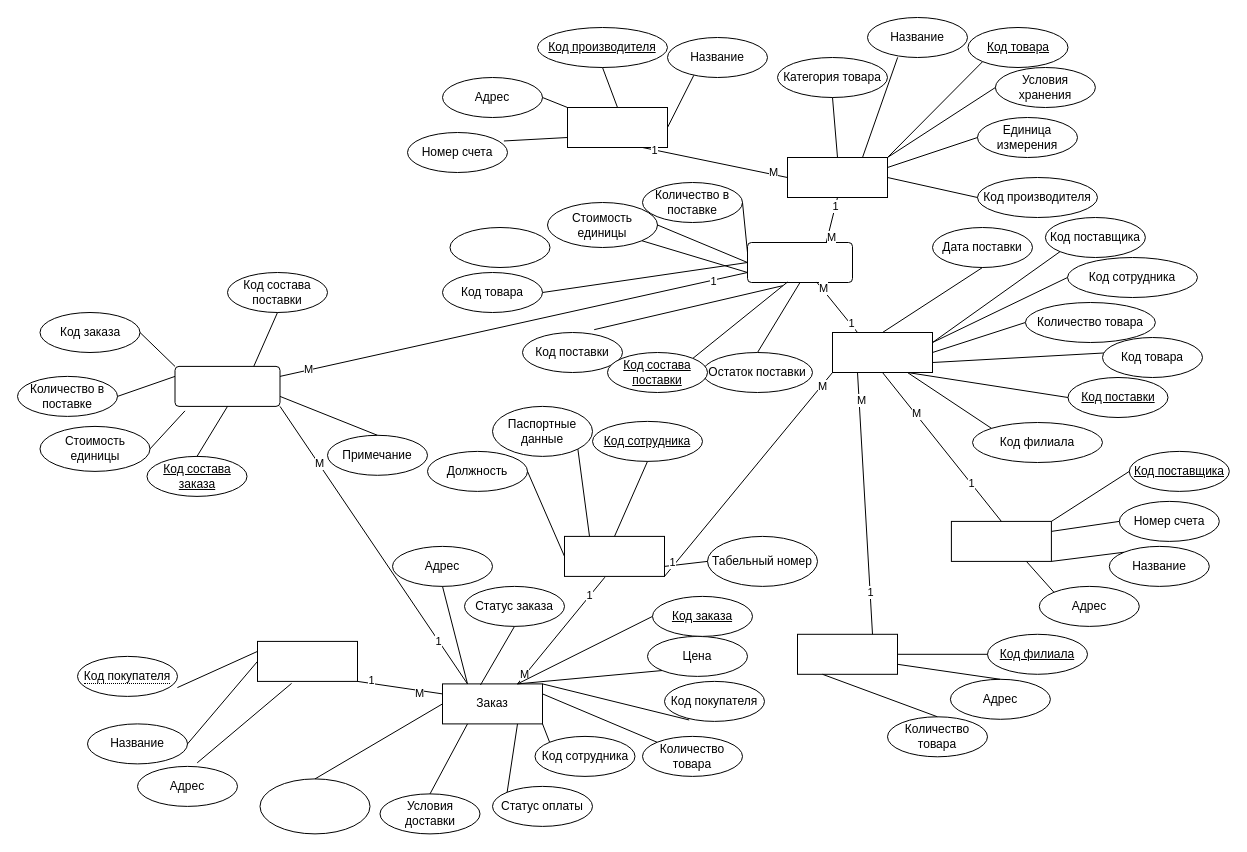
Image size: 1247x852. Some labels were removed from this diagram. The shapes that lost their labels are listed below. From the top down, each one's centre as x and y in pixels, then its label:
At (x=617, y=127): "Производитель".
At (x=837, y=177): "Товар".
At (x=499, y=247): "Срок годности".
At (x=799, y=262): "Состав поставки".
At (x=882, y=352): "Поставка".
At (x=227, y=385): "Состав заказа".
At (x=614, y=555): "Сотрудник".
At (x=1000, y=540): "Компания поставщик".
At (x=307, y=660): "Покупатель".
At (x=847, y=653): "База".
At (x=314, y=806): "дата заказа".
